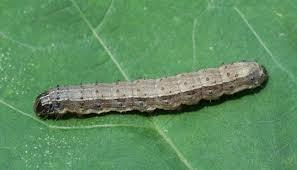fallarmy_worm: (26, 59, 274, 121)
